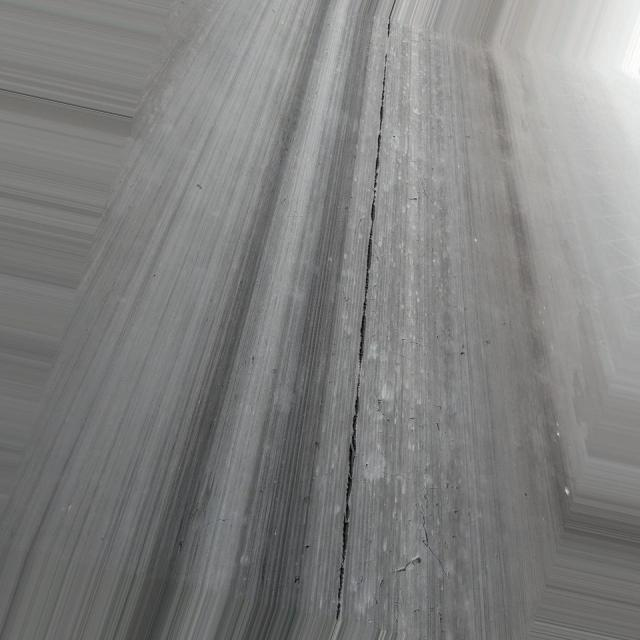Tear: (326, 7, 402, 625)
